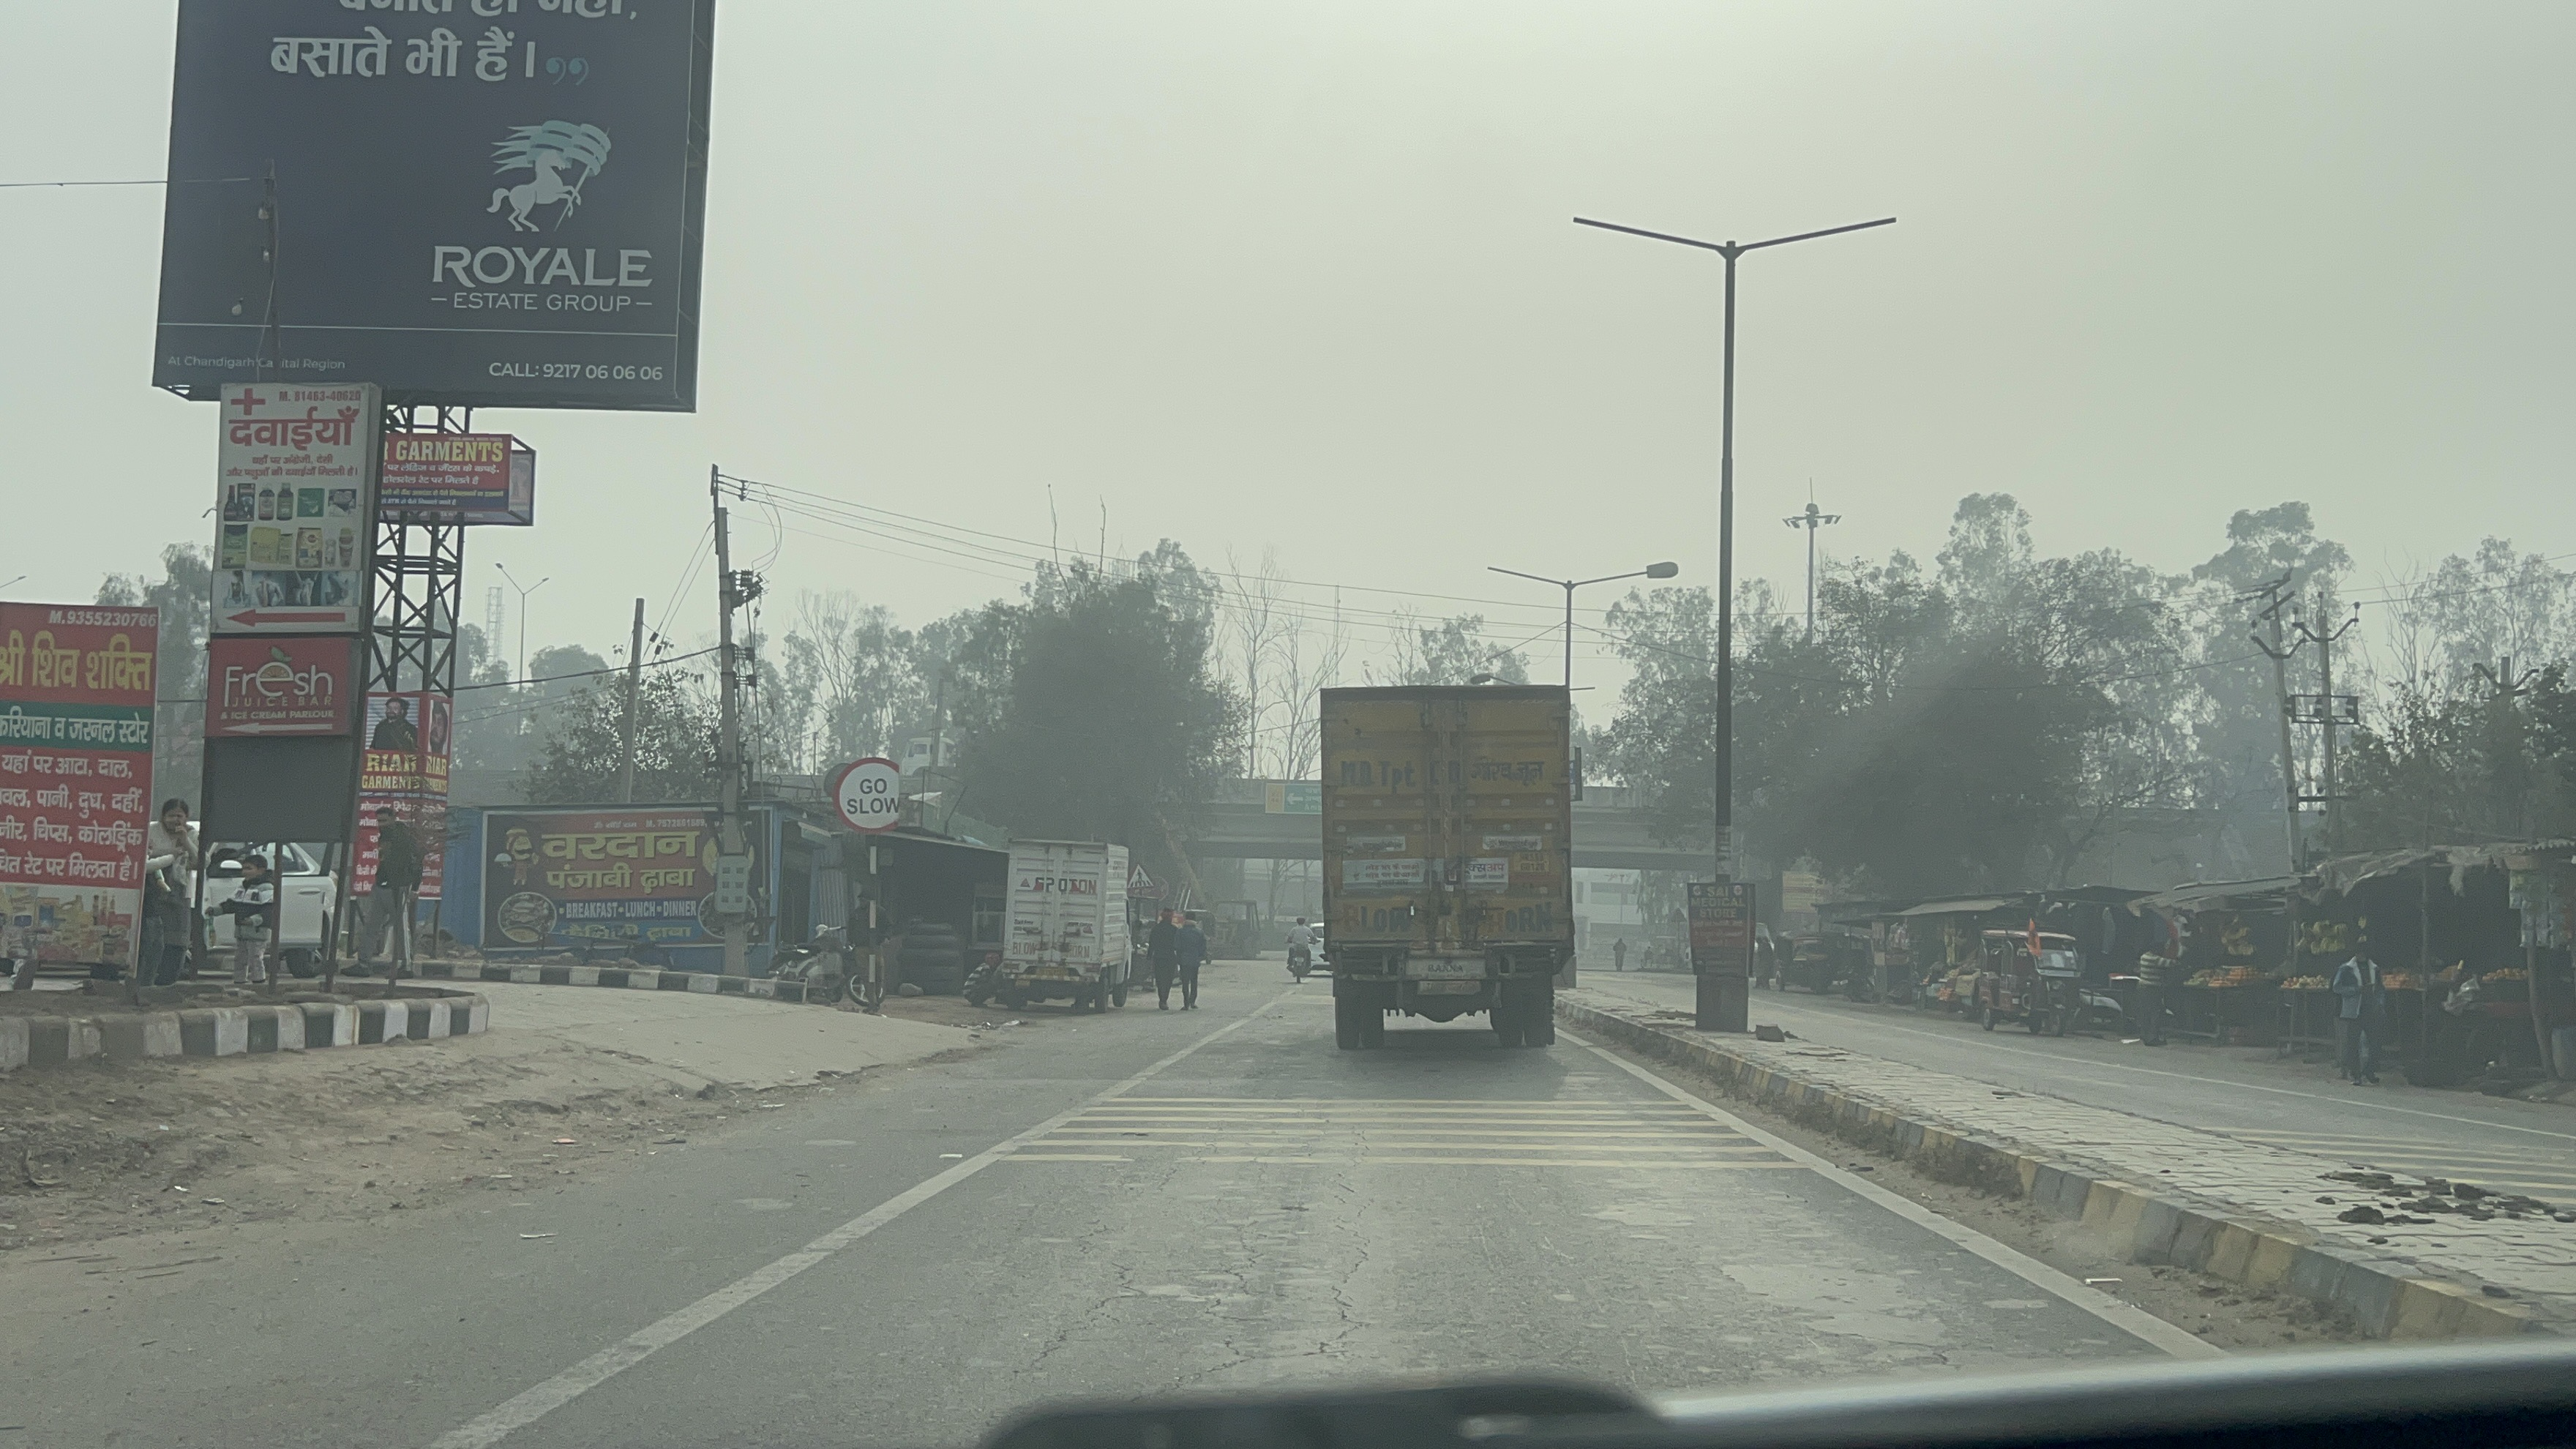Mandatory: (821, 743, 924, 846)
Warning: (1115, 855, 1168, 897)
